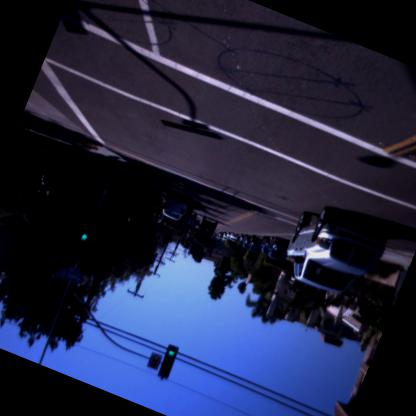trafficlight: (155, 342, 181, 382)
